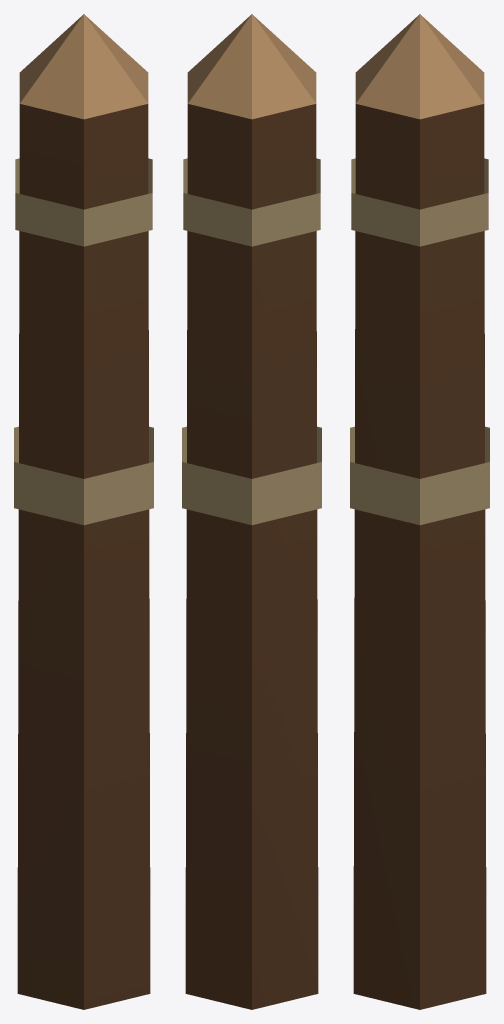
Rendered from fence_corner_low.glb.
3 renders of one model, left to right at view 1: azimuth 30°, elevation 25°; view 2: azimuth 150°, elevation 25°; view 3: azimuth 270°, elevation 25°, orthographic.
Bounding box in the file's own units: 0.316 × 2.08 × 0.2737.
